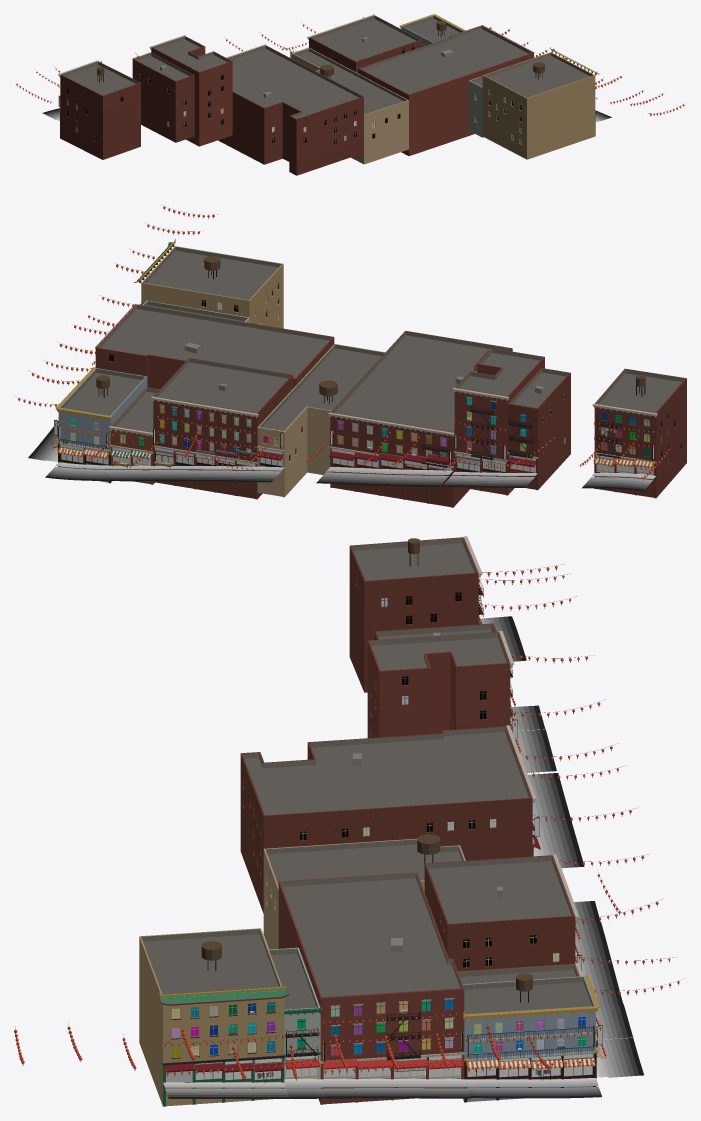
The picture shows the model from 3 angles, top to bottom: view 1: azimuth 30°, elevation 25°; view 2: azimuth 150°, elevation 25°; view 3: azimuth 270°, elevation 25°; orthographic projection. The views are drawn at different scales.
Parts seen in each view (by area): view 1: L0_brickred, L0_roof, L0_d_stucco, L0_stucco, L0_stone, L0_brick, L0_d_brickred, L0_win, L0_d_wood, L0_lantern, L0_d_metal, L0_metal; view 2: L0_roof, L0_brickred, L0_ground, L0_stone, L0_d_metal, L0_stucco, L0_brick, L0_cwin, L0_d_fabric, L0_d_stone, L0_d_brickred, L0_clear (+5 smaller); view 3: L0_roof, L0_brickred, L0_ground, L0_stucco, L0_stone, L0_d_metal, L0_cwin, L0_d_fabric, L0_lantern, L0_d_stucco, L0_clear, L0_d_paint (+7 smaller).
Part boxes in pixels (x1,y1,x2,y2): L0_brickred: (60,36,533,175); L0_roof: (62,16,593,118); L0_d_stucco: (482,75,595,159); L0_stucco: (401,26,526,159); L0_stone: (58,14,596,119); L0_brick: (292,53,408,164); L0_d_brickred: (218,68,408,164); L0_win: (67,45,521,144); L0_d_wood: (97,20,544,76); L0_lantern: (16,17,684,115); L0_d_metal: (34,17,681,113); L0_metal: (67,46,521,143); L0_roof: (60,247,684,432); L0_brickred: (95,348,686,506); L0_ground: (28,422,655,491); L0_stone: (55,246,686,468); L0_d_metal: (25,211,661,475); L0_stucco: (58,264,283,482); L0_brick: (257,407,331,496); L0_cwin: (70,397,649,456); L0_d_fabric: (19,209,669,480); L0_d_stone: (58,391,656,507); L0_d_brickred: (119,337,650,506); L0_clear: (61,452,653,473); L0_roof: (141,538,593,1014); L0_brickred: (240,546,575,1104); L0_ground: (163,616,643,1098); L0_stucco: (163,997,595,1106); L0_stone: (139,536,599,1065); L0_d_metal: (15,554,678,1082); L0_cwin: (172,999,585,1057); L0_d_fabric: (15,569,678,1080); L0_lantern: (14,566,679,1078); L0_d_stucco: (139,937,585,1105); L0_clear: (195,1066,592,1080); L0_d_paint: (159,576,599,1078).
Size of the model in its own units: 158 by 37.63 by 102.
